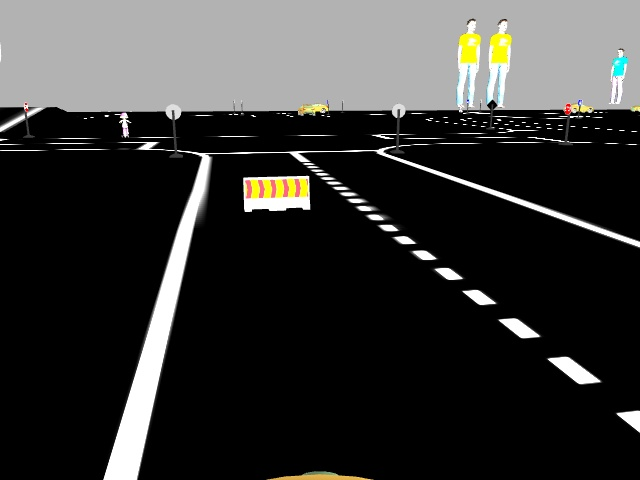ClosedRoadStand: (244, 177, 310, 210)
